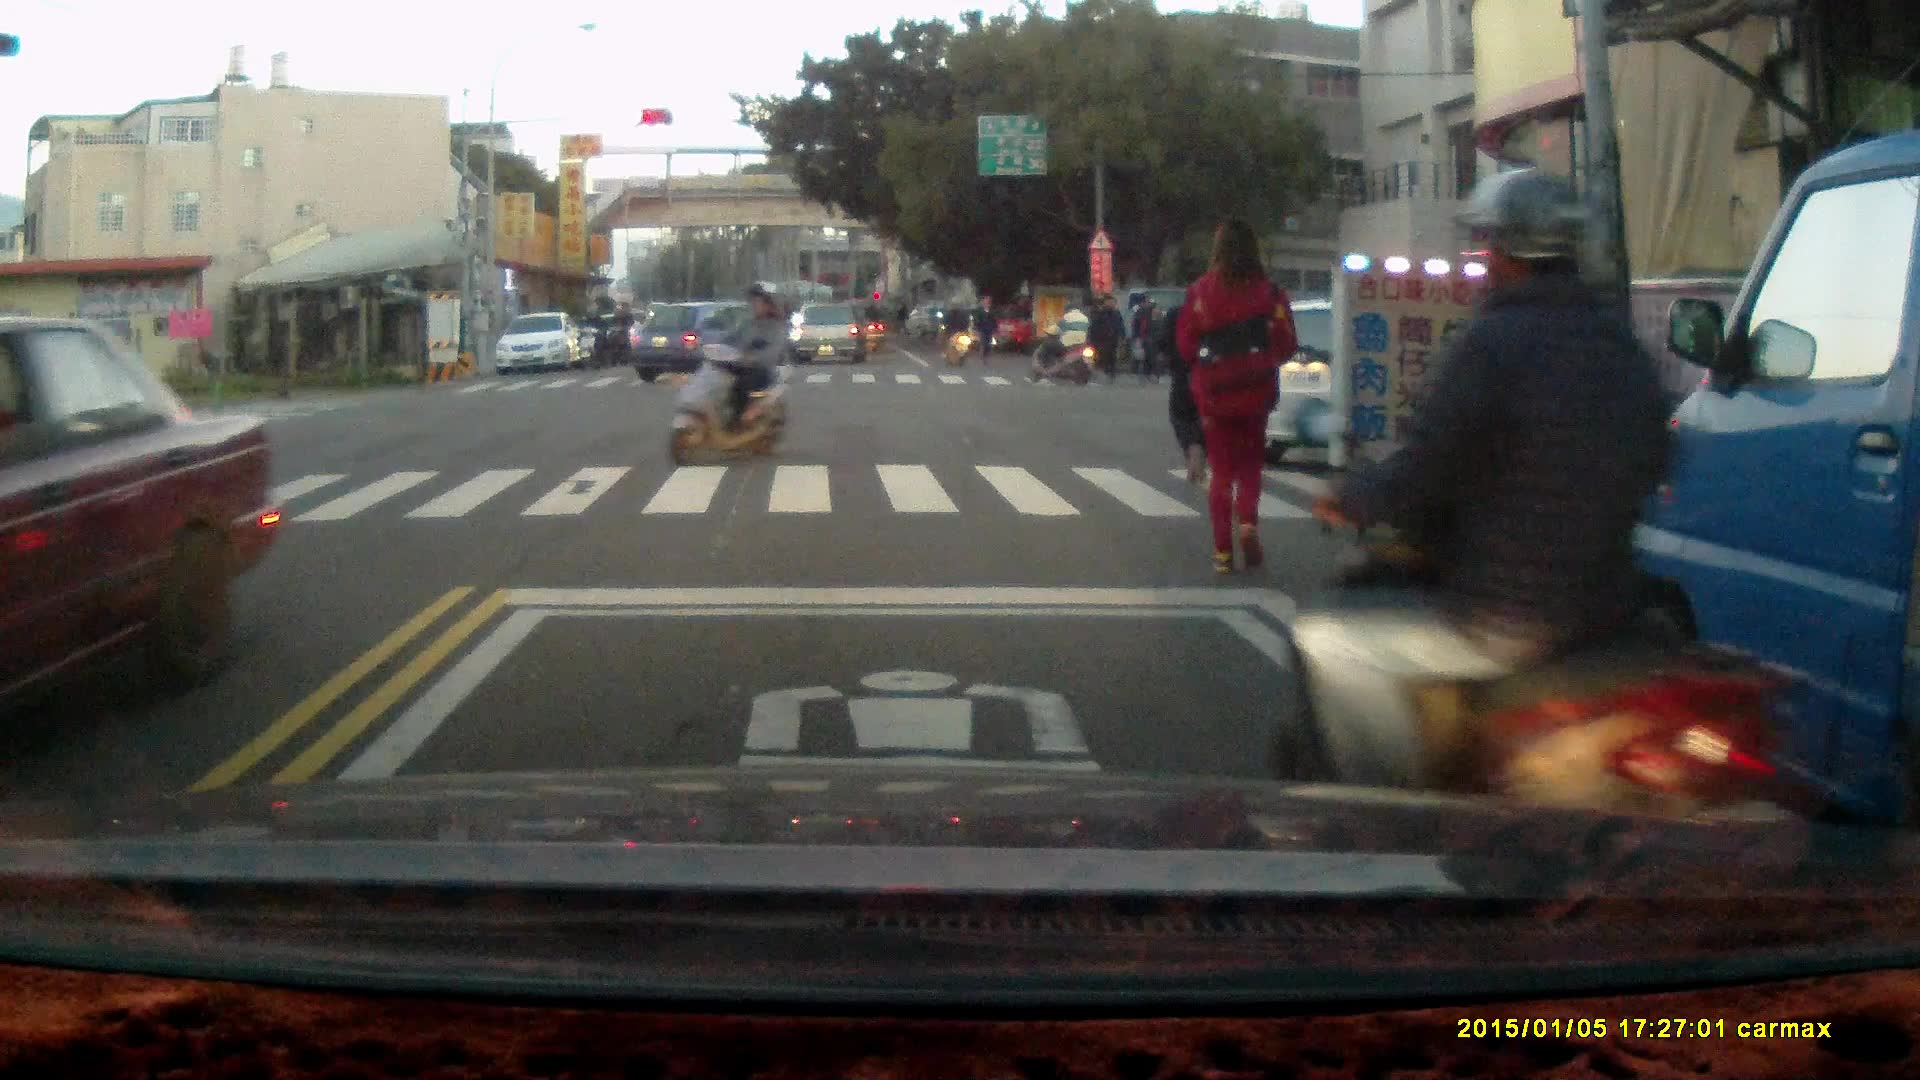pedestrian: (1175, 214, 1299, 581), (1153, 261, 1238, 485), (1089, 290, 1122, 384), (1136, 298, 1164, 378), (975, 293, 999, 368)
rider: (1275, 163, 1792, 889), (665, 281, 800, 470), (1028, 295, 1097, 387), (934, 293, 976, 370), (575, 302, 607, 370), (603, 302, 632, 364)
vehicle: (1598, 132, 1920, 879), (1, 314, 276, 737), (1233, 296, 1533, 459), (631, 303, 801, 388), (498, 313, 586, 377), (792, 301, 871, 368)
